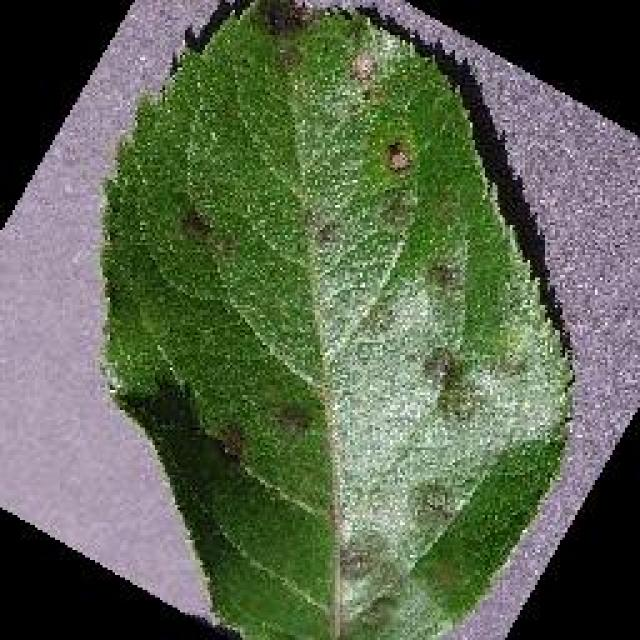apple scab disease: (95, 0, 577, 638)
